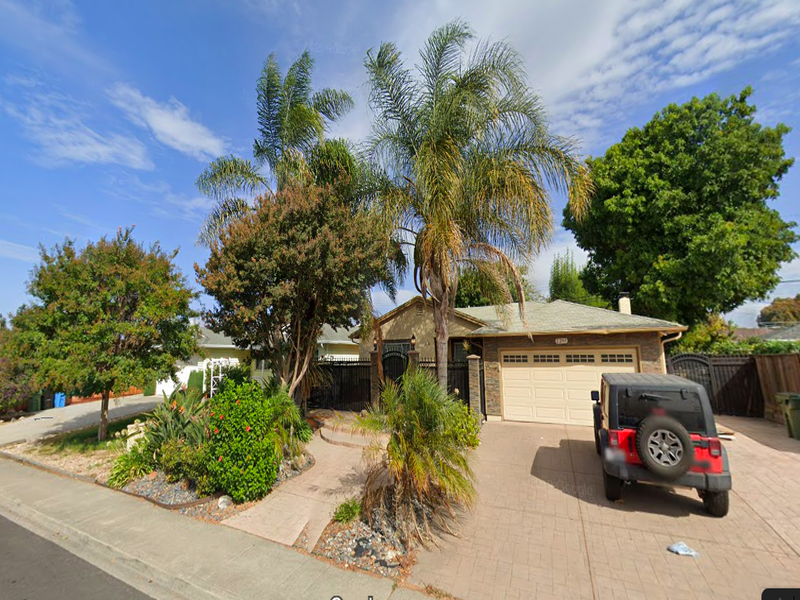tree: (363, 19, 595, 443), (193, 179, 393, 429), (4, 223, 206, 449)
